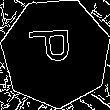P_E: (30, 33, 82, 73)
